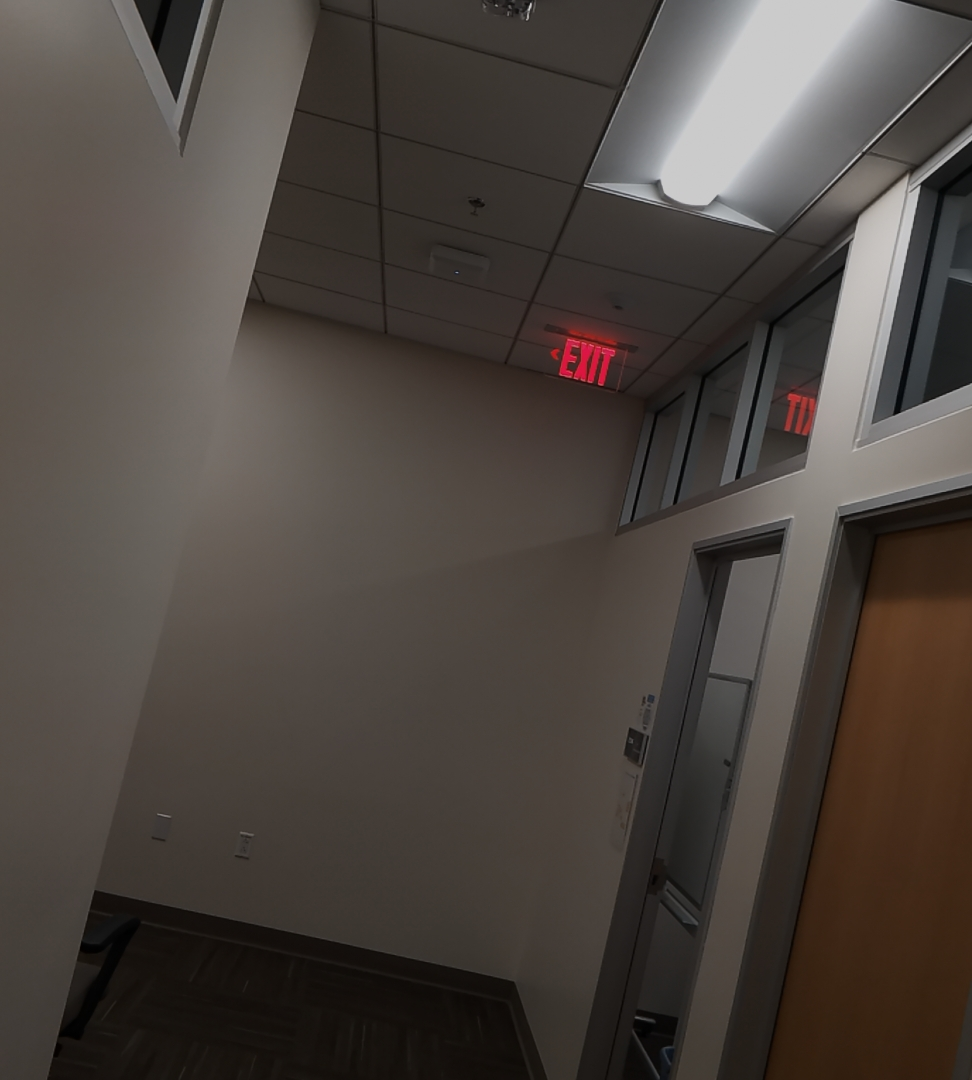emergency_exit: (544, 329, 632, 393), (779, 388, 818, 438)
